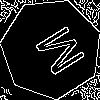M: (26, 23, 87, 83)
